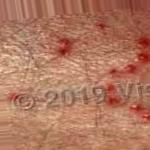Ants: (94, 17, 114, 38), (107, 81, 119, 107), (57, 38, 71, 55), (137, 35, 149, 48), (134, 52, 149, 62), (124, 64, 135, 72), (130, 104, 142, 111), (142, 113, 149, 120)
